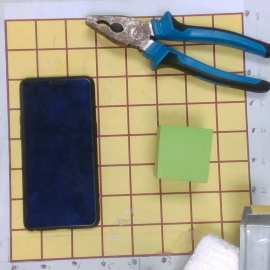phone: (20, 76, 103, 229)
